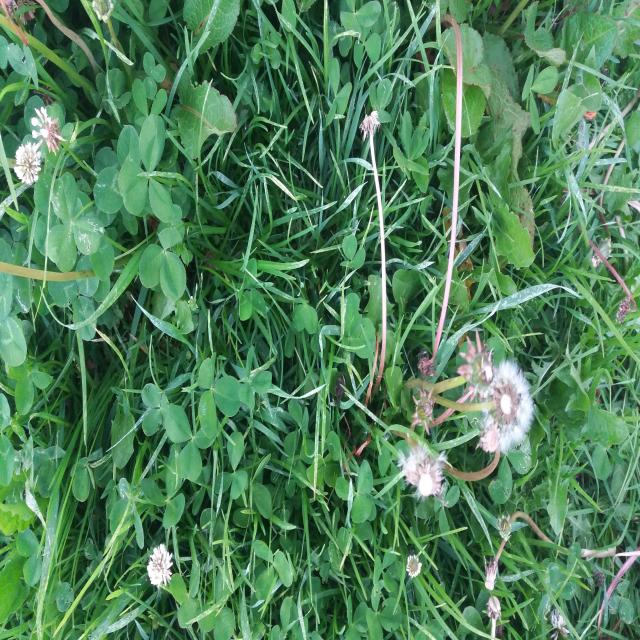Four Leaf Clover: (159, 287, 210, 354), (393, 110, 430, 180), (325, 359, 365, 414), (299, 302, 338, 355), (215, 322, 252, 372)
